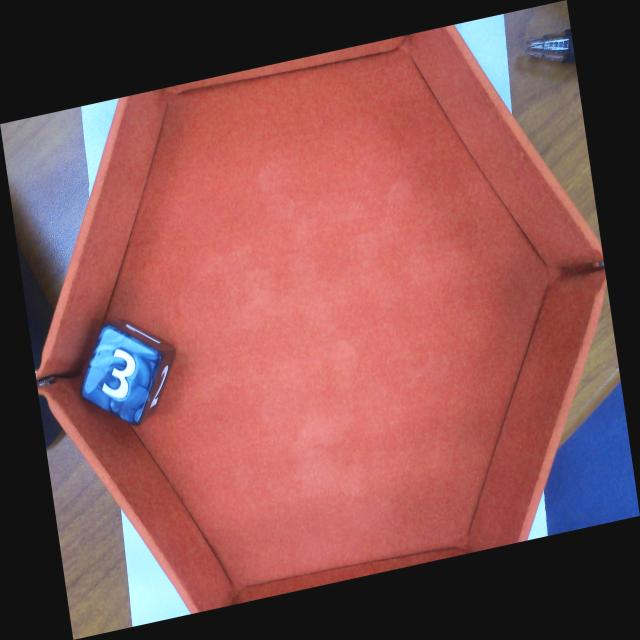dice: (76, 322, 165, 428)
